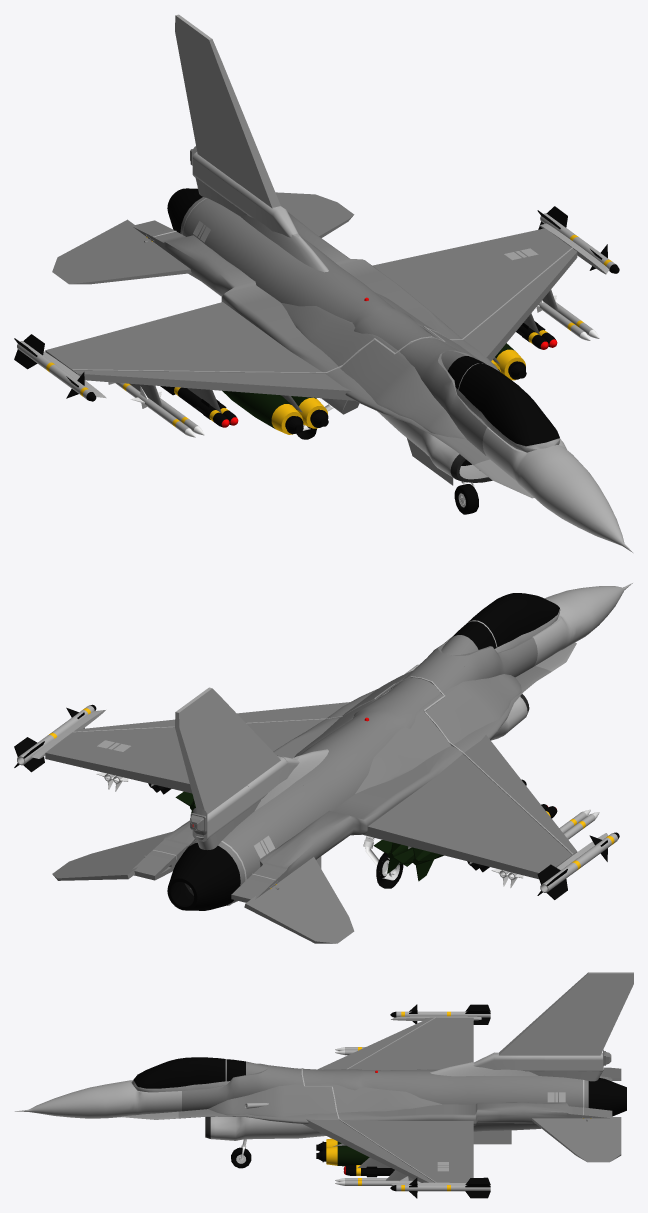
3 renders of one model, top to bottom at view 1: azimuth 30°, elevation 25°; view 2: azimuth 150°, elevation 25°; view 3: azimuth 270°, elevation 25°, orthographic. The views are drawn at different scales.
Visible parts, largest first — view 1: PartMaterial(Clone), PartTransparentZWrite(Clone); view 2: PartMaterial(Clone), PartTransparentZWrite(Clone); view 3: PartMaterial(Clone), PartTransparentZWrite(Clone).
Part boxes in pixels (bbox=[...]): PartMaterial(Clone): bbox=[14, 14, 632, 552]; PartTransparentZWrite(Clone): bbox=[441, 351, 559, 446]; PartMaterial(Clone): bbox=[14, 583, 632, 943]; PartTransparentZWrite(Clone): bbox=[441, 593, 559, 655]; PartMaterial(Clone): bbox=[15, 972, 633, 1198]; PartTransparentZWrite(Clone): bbox=[133, 1057, 268, 1088].
Size of what is drawn, in the model's own units: 9.29 by 4.73 by 13.58.
Materials: 3 (1 with a texture image).
